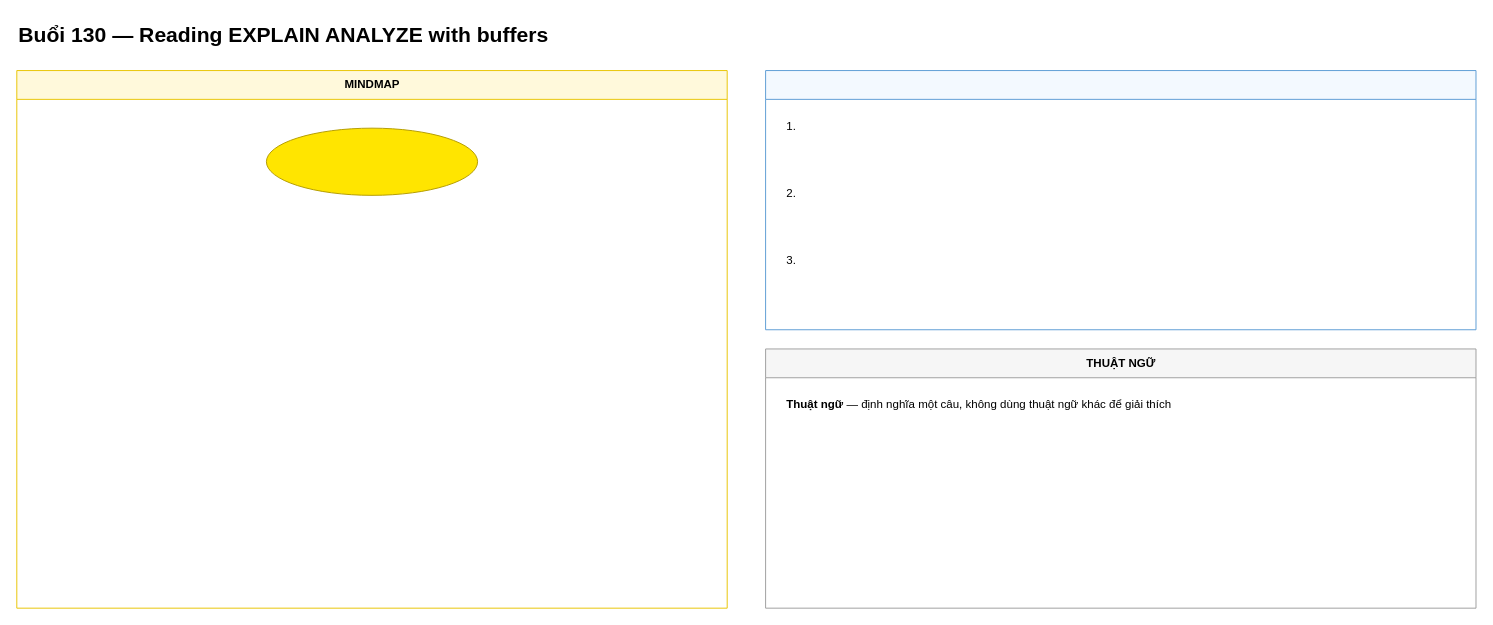
This 1493x625 diagram has some shape labels left out. The box of each missing label's shape, as (x1, y1, x2, y2) in pixels:
KEY TAKEAWAY — ba điều phải nhớ: (765, 70, 1476, 330)
Reading EXPLAIN ANALYZE with buffers: (265, 127, 478, 195)
